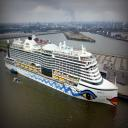cruises: (5, 36, 119, 111)
